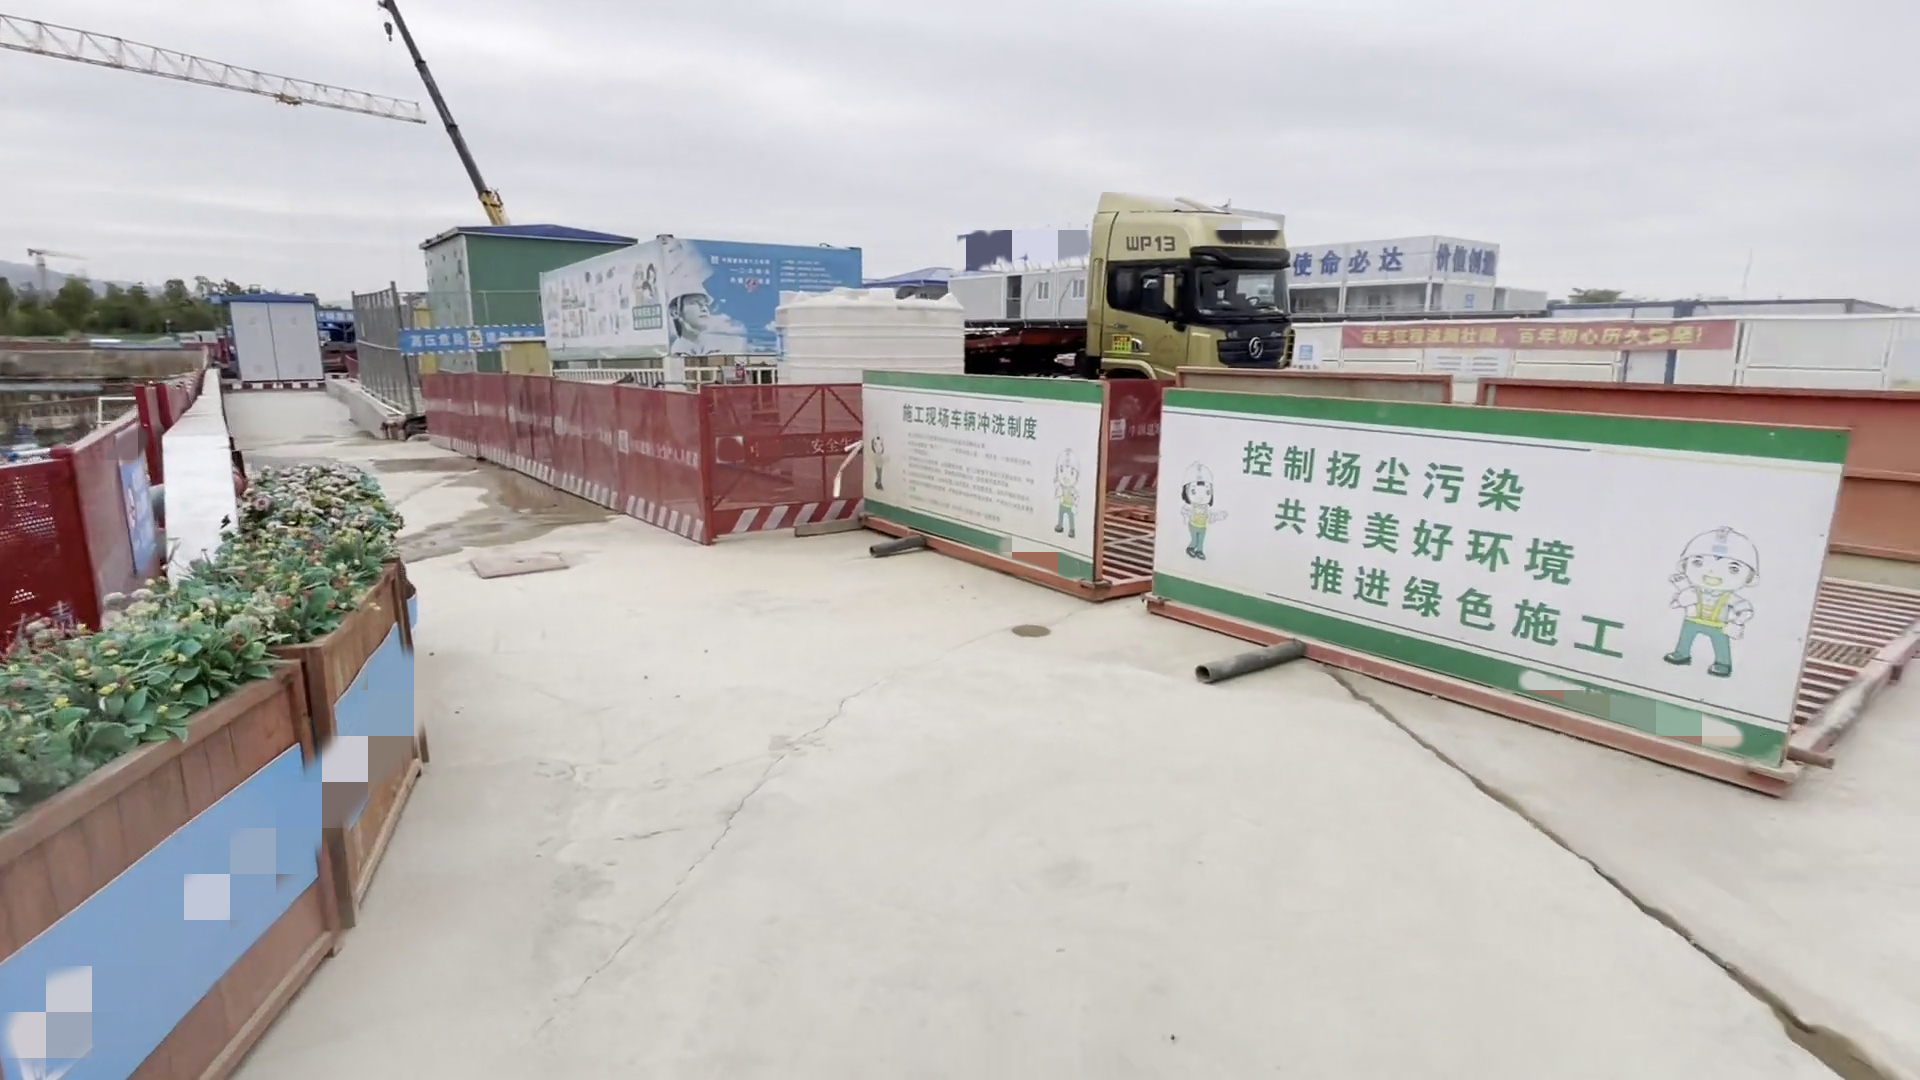fence: (423, 368, 695, 542), (694, 375, 872, 537)
slogan: (1175, 425, 1658, 673), (1352, 319, 1716, 356), (1296, 248, 1495, 285)
